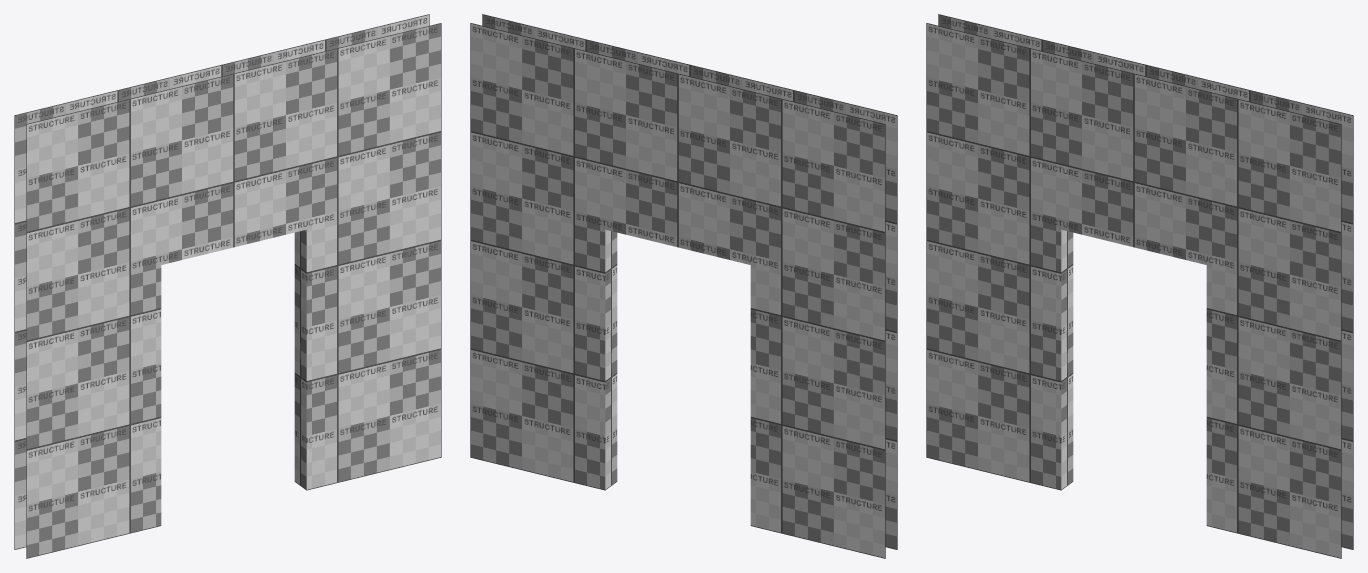
Rendered from Entry_4x4.fbx.
3 views of the same model, side by side, from view 1: azimuth 30°, elevation 25°; view 2: azimuth 150°, elevation 25°; view 3: azimuth 330°, elevation 25° (orthographic).
Parts seen in each view (by area): view 1: Entry_4x4; view 2: Entry_4x4; view 3: Entry_4x4.
Part boxes in pixels (bbox=[...]): Entry_4x4: bbox=[14, 14, 441, 558]; Entry_4x4: bbox=[470, 14, 897, 558]; Entry_4x4: bbox=[926, 14, 1353, 558].
Bounding box in the file's own units: 400 × 400 × 20.
